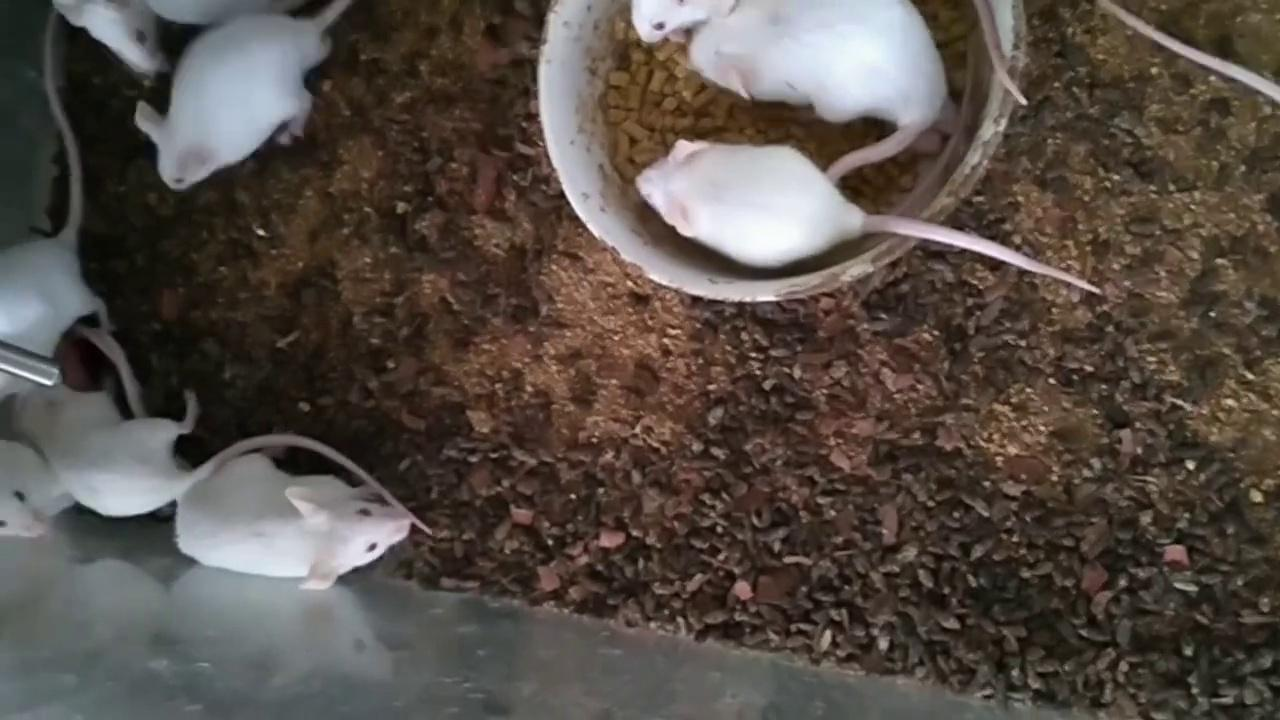rat: (636, 139, 1102, 293), (15, 378, 432, 535), (690, 0, 949, 187), (0, 14, 112, 399), (137, 0, 349, 190), (175, 454, 413, 589), (52, 0, 165, 72), (0, 442, 50, 538), (632, 0, 738, 43)
